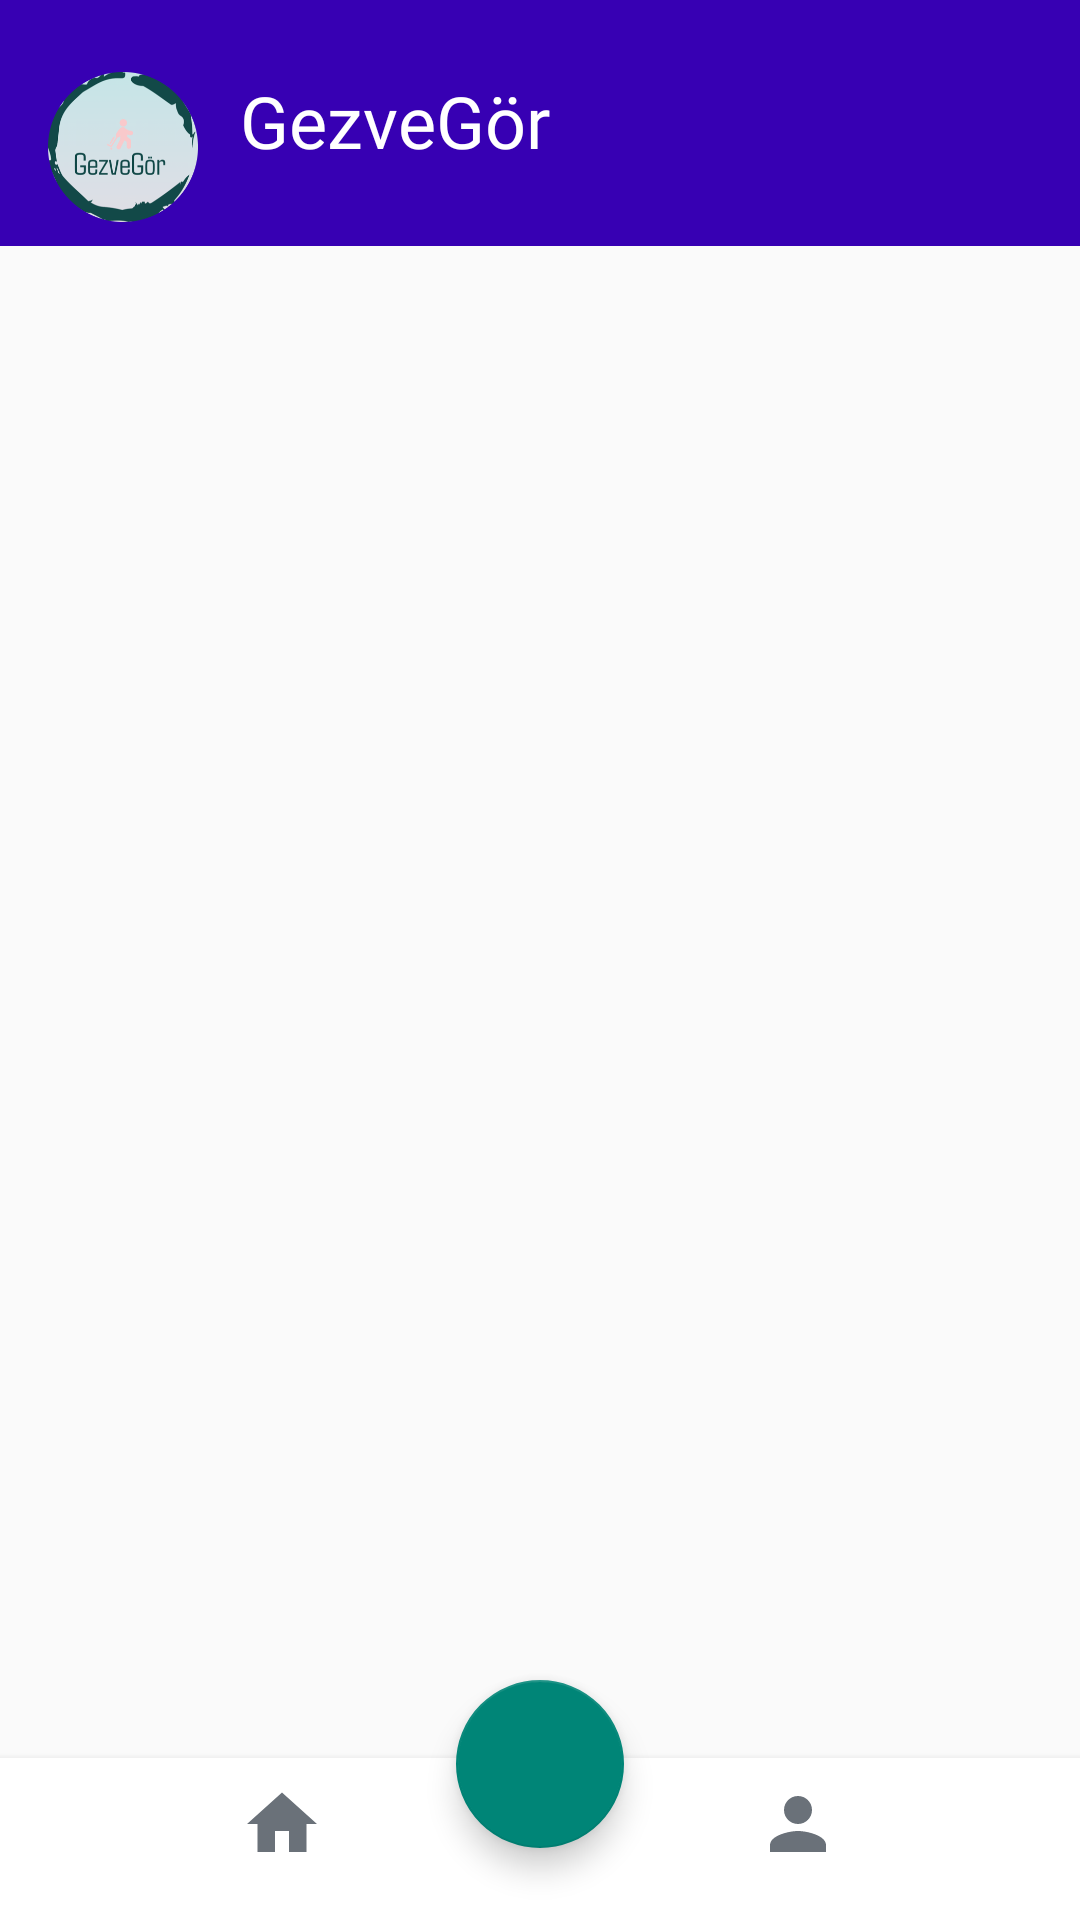

Icons on this 1080x1920 Android screen, each with the point to tap as point (x, y):
home: point (282, 1822)
person: point (798, 1824)
